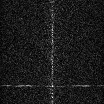wifi: (1, 84, 104, 86)
